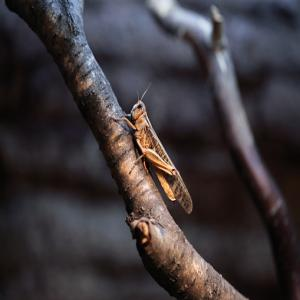locust: (123, 84, 194, 214)
